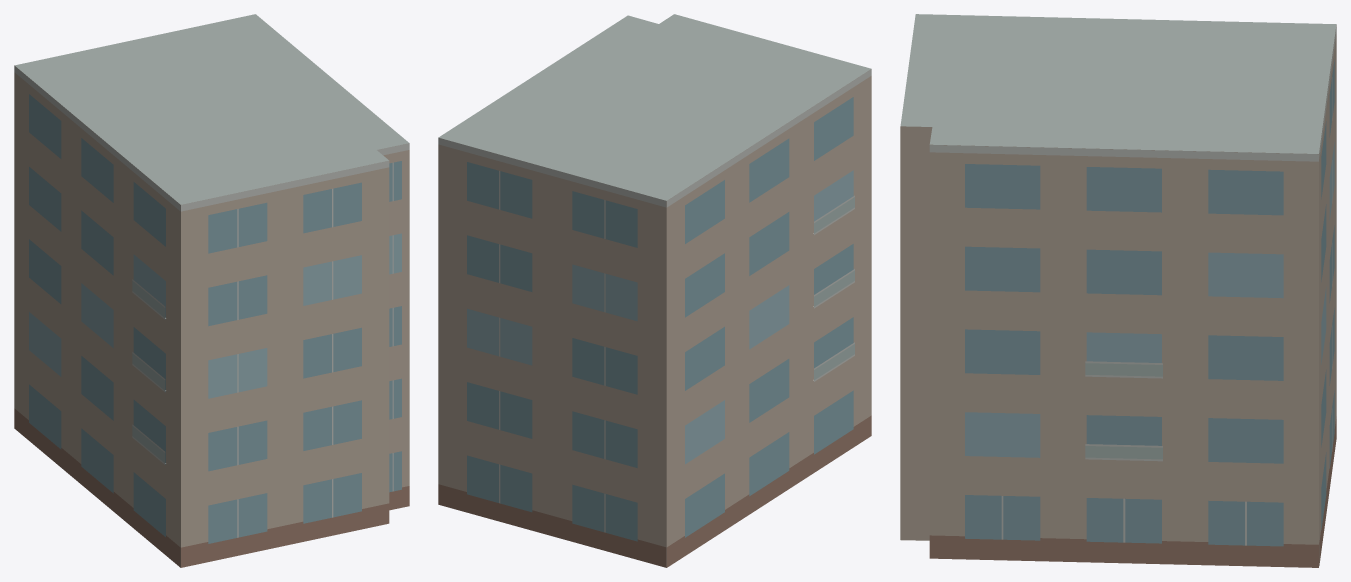
File: survey-upis-32703155.glb
The picture shows the model from 3 angles, left to right: view 1: azimuth 30°, elevation 25°; view 2: azimuth 150°, elevation 25°; view 3: azimuth 270°, elevation 25°; orthographic projection. The views are drawn at different scales.
Parts seen in each view (by area): view 1: survey-upis-32703155.tmp; view 2: survey-upis-32703155.tmp; view 3: survey-upis-32703155.tmp.
Boxes of the visible parts, <box> form: survey-upis-32703155.tmp: <box>14,14,409,567</box>; survey-upis-32703155.tmp: <box>438,14,871,567</box>; survey-upis-32703155.tmp: <box>900,14,1336,567</box>.
Size of the model in its own units: 9.59 by 13.2 by 12.62.
